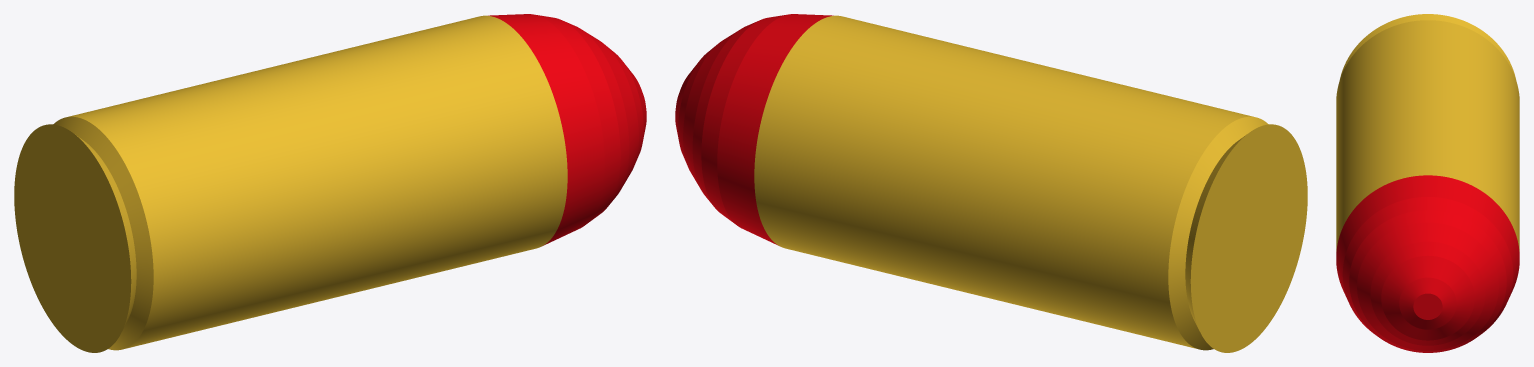
Rendered from mermi.fbx.
The picture shows the model from 3 angles, left to right: view 1: azimuth 30°, elevation 25°; view 2: azimuth 150°, elevation 25°; view 3: azimuth 270°, elevation 25°; orthographic projection. The views are drawn at different scales.
Parts seen in each view (by area): view 1: mermi; view 2: mermi; view 3: mermi.
Part boxes in pixels (x1=…): mermi: x1=14, y1=14, x2=646, y2=352; mermi: x1=675, y1=14, x2=1307, y2=352; mermi: x1=1336, y1=14, x2=1519, y2=352.
Bounding box in the file's own units: 272 × 100 × 100.
